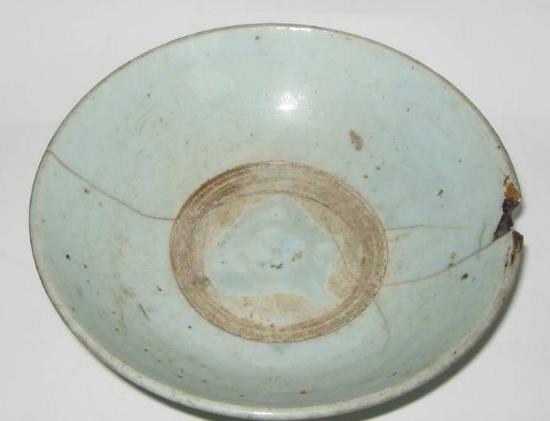ceramics: (17, 18, 535, 421)
